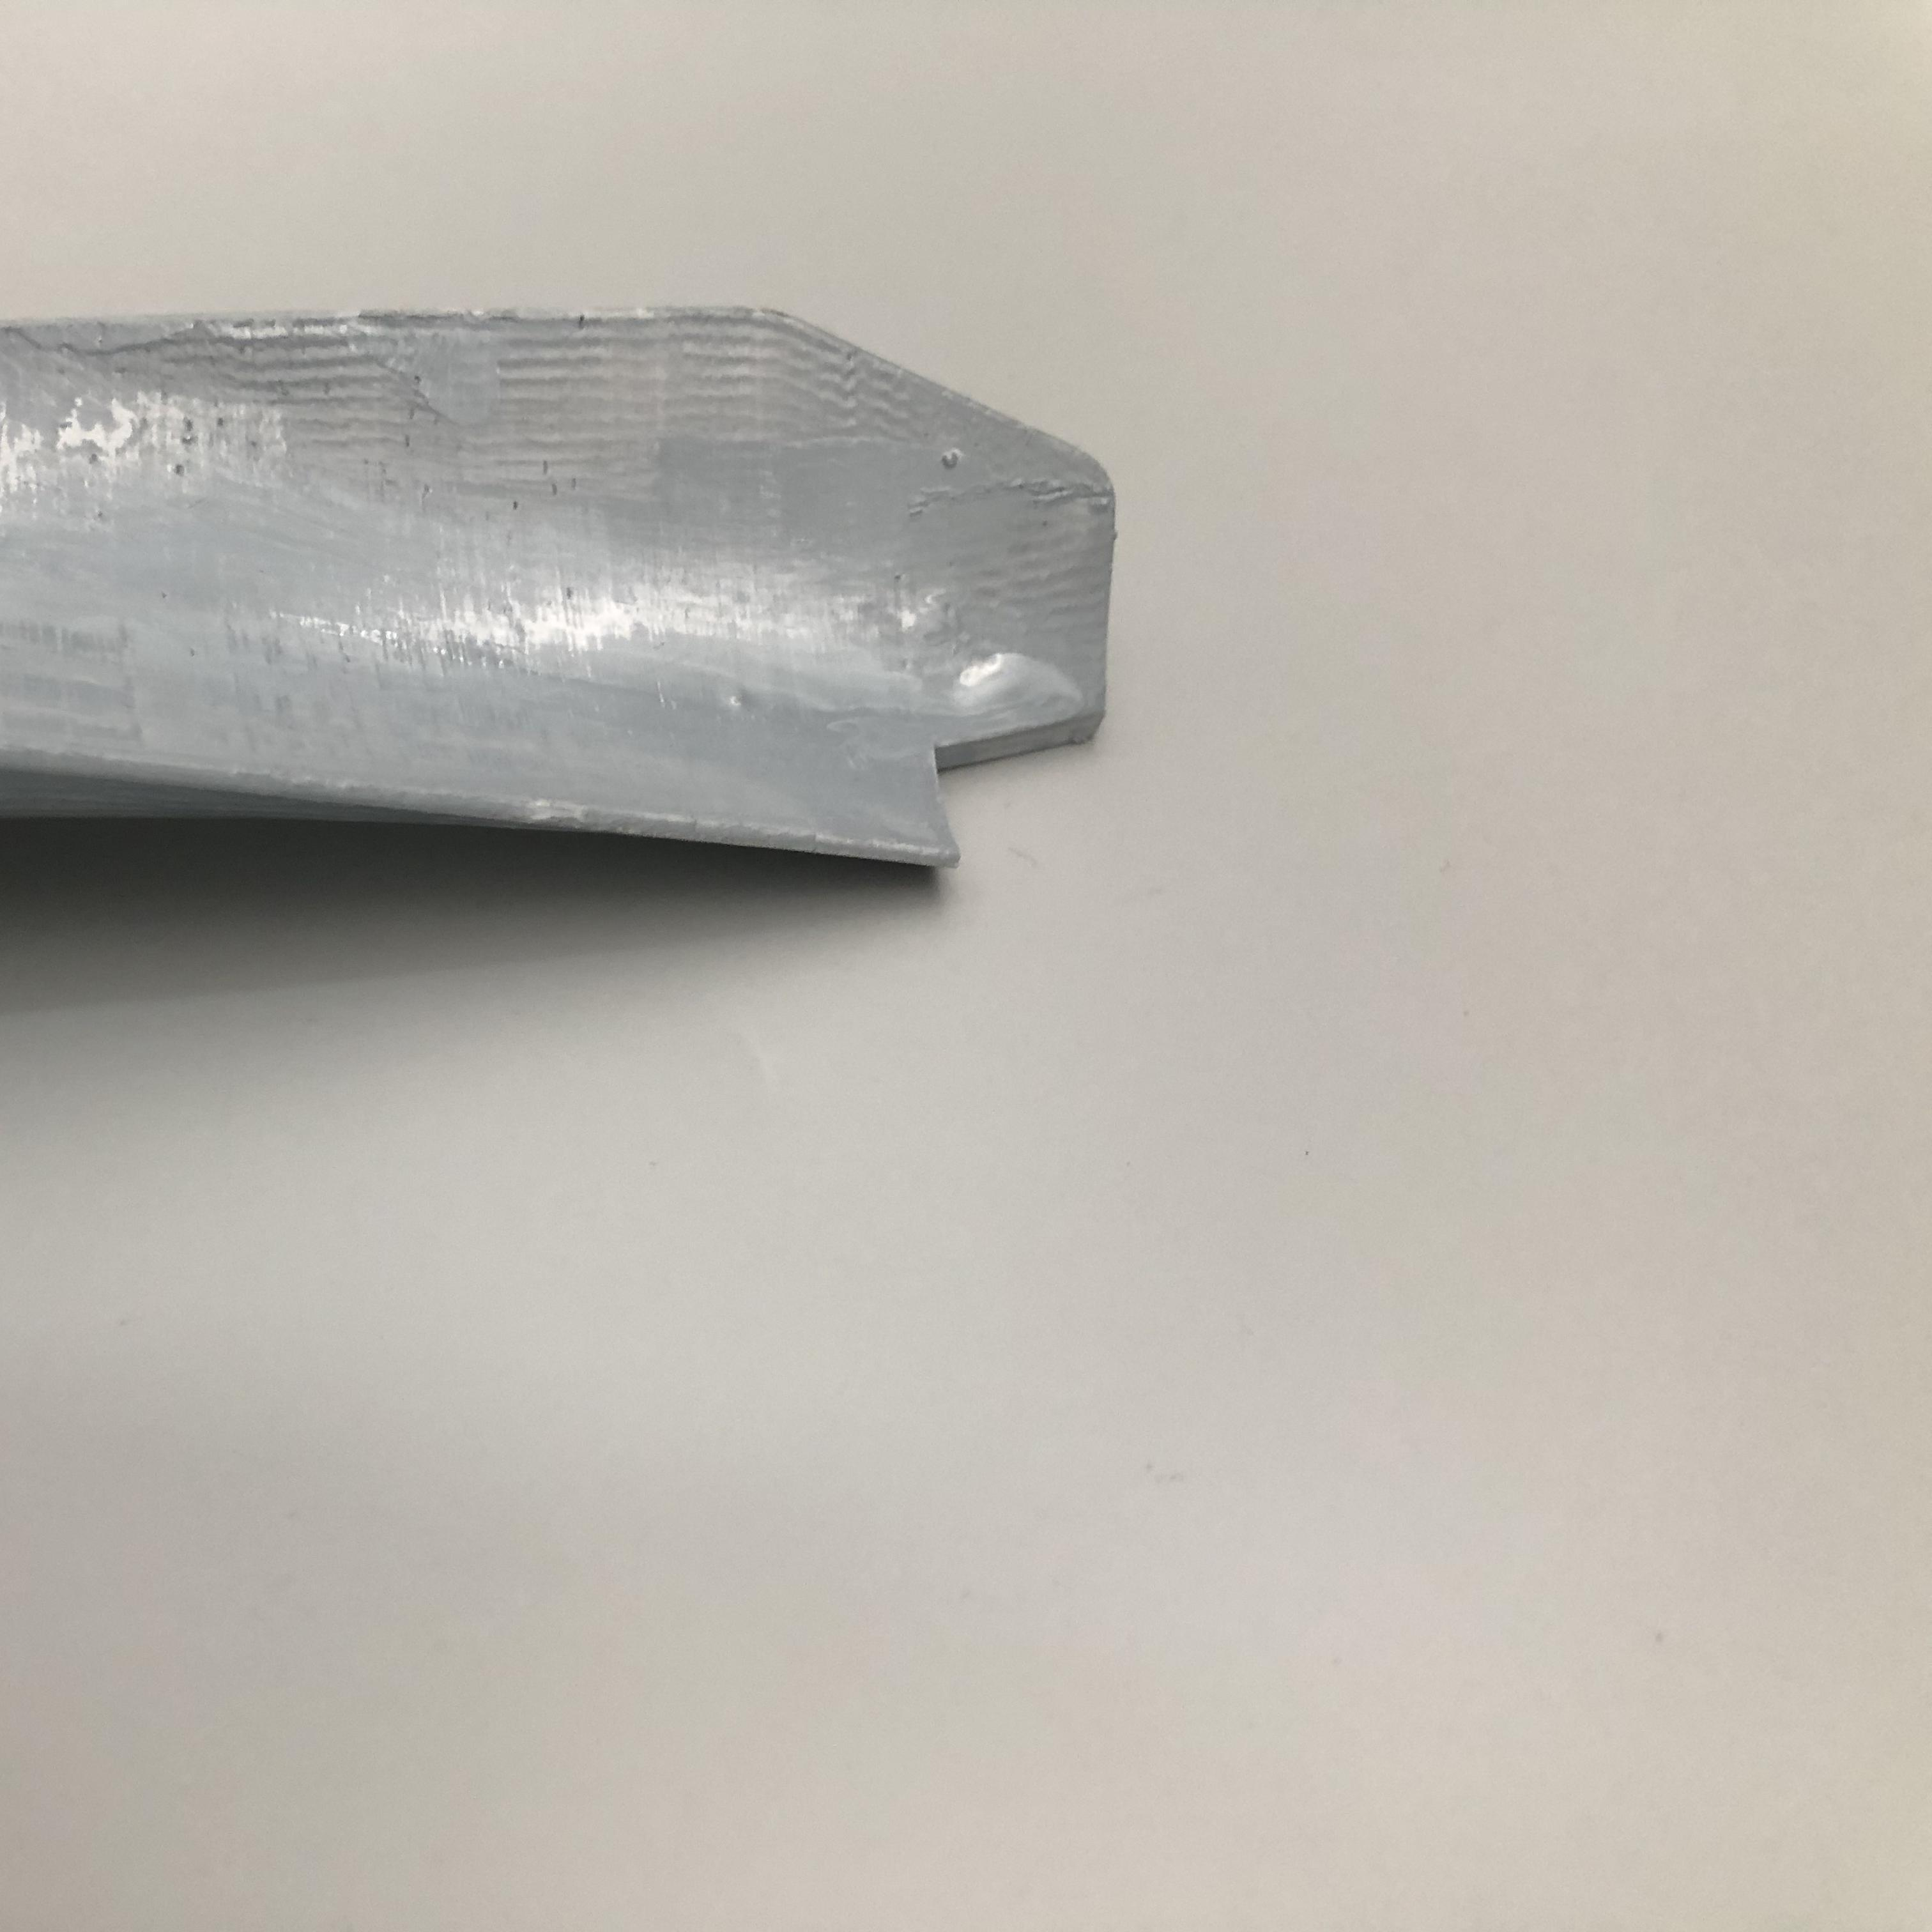fracture: (920, 717, 1074, 869)
